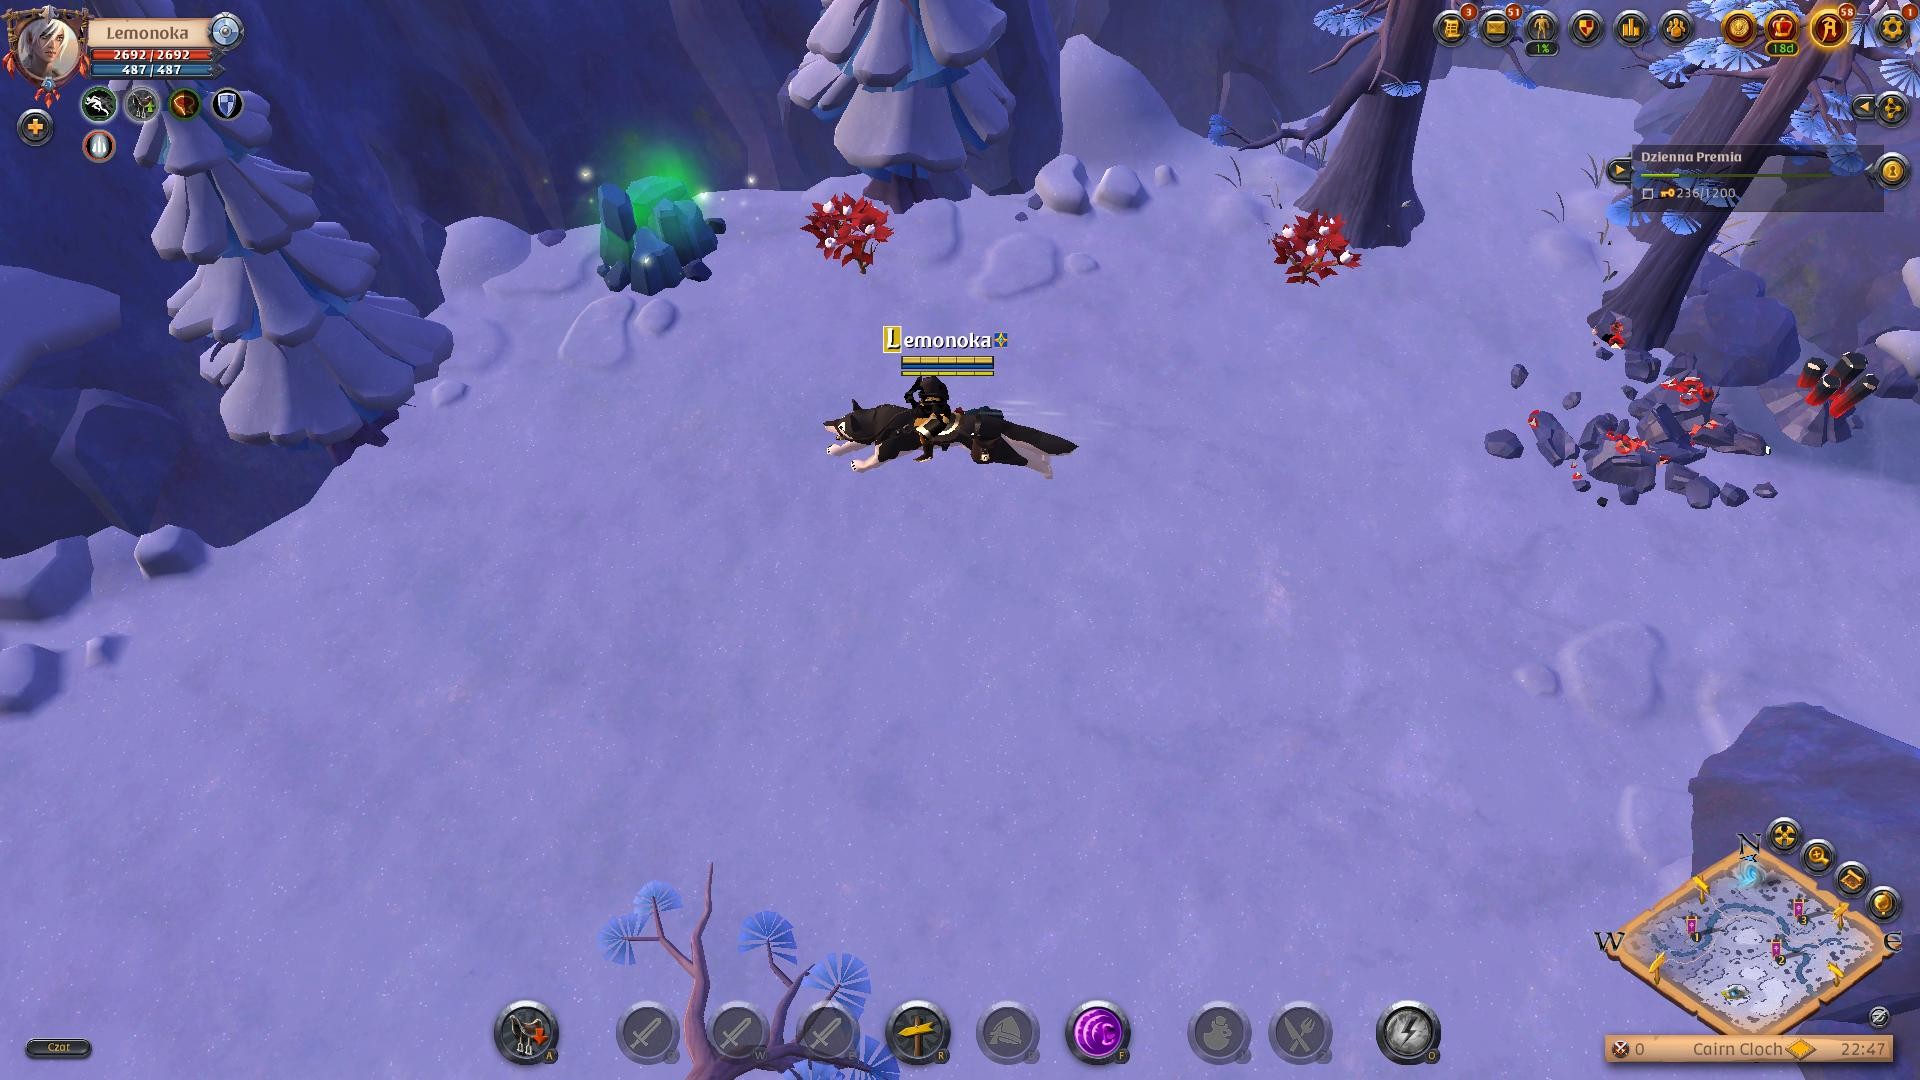fiber tier 5: (802, 191, 897, 282), (1270, 207, 1364, 293)
ore tier 5: (1770, 345, 1876, 455)
rock tier 4: (589, 178, 728, 297)
